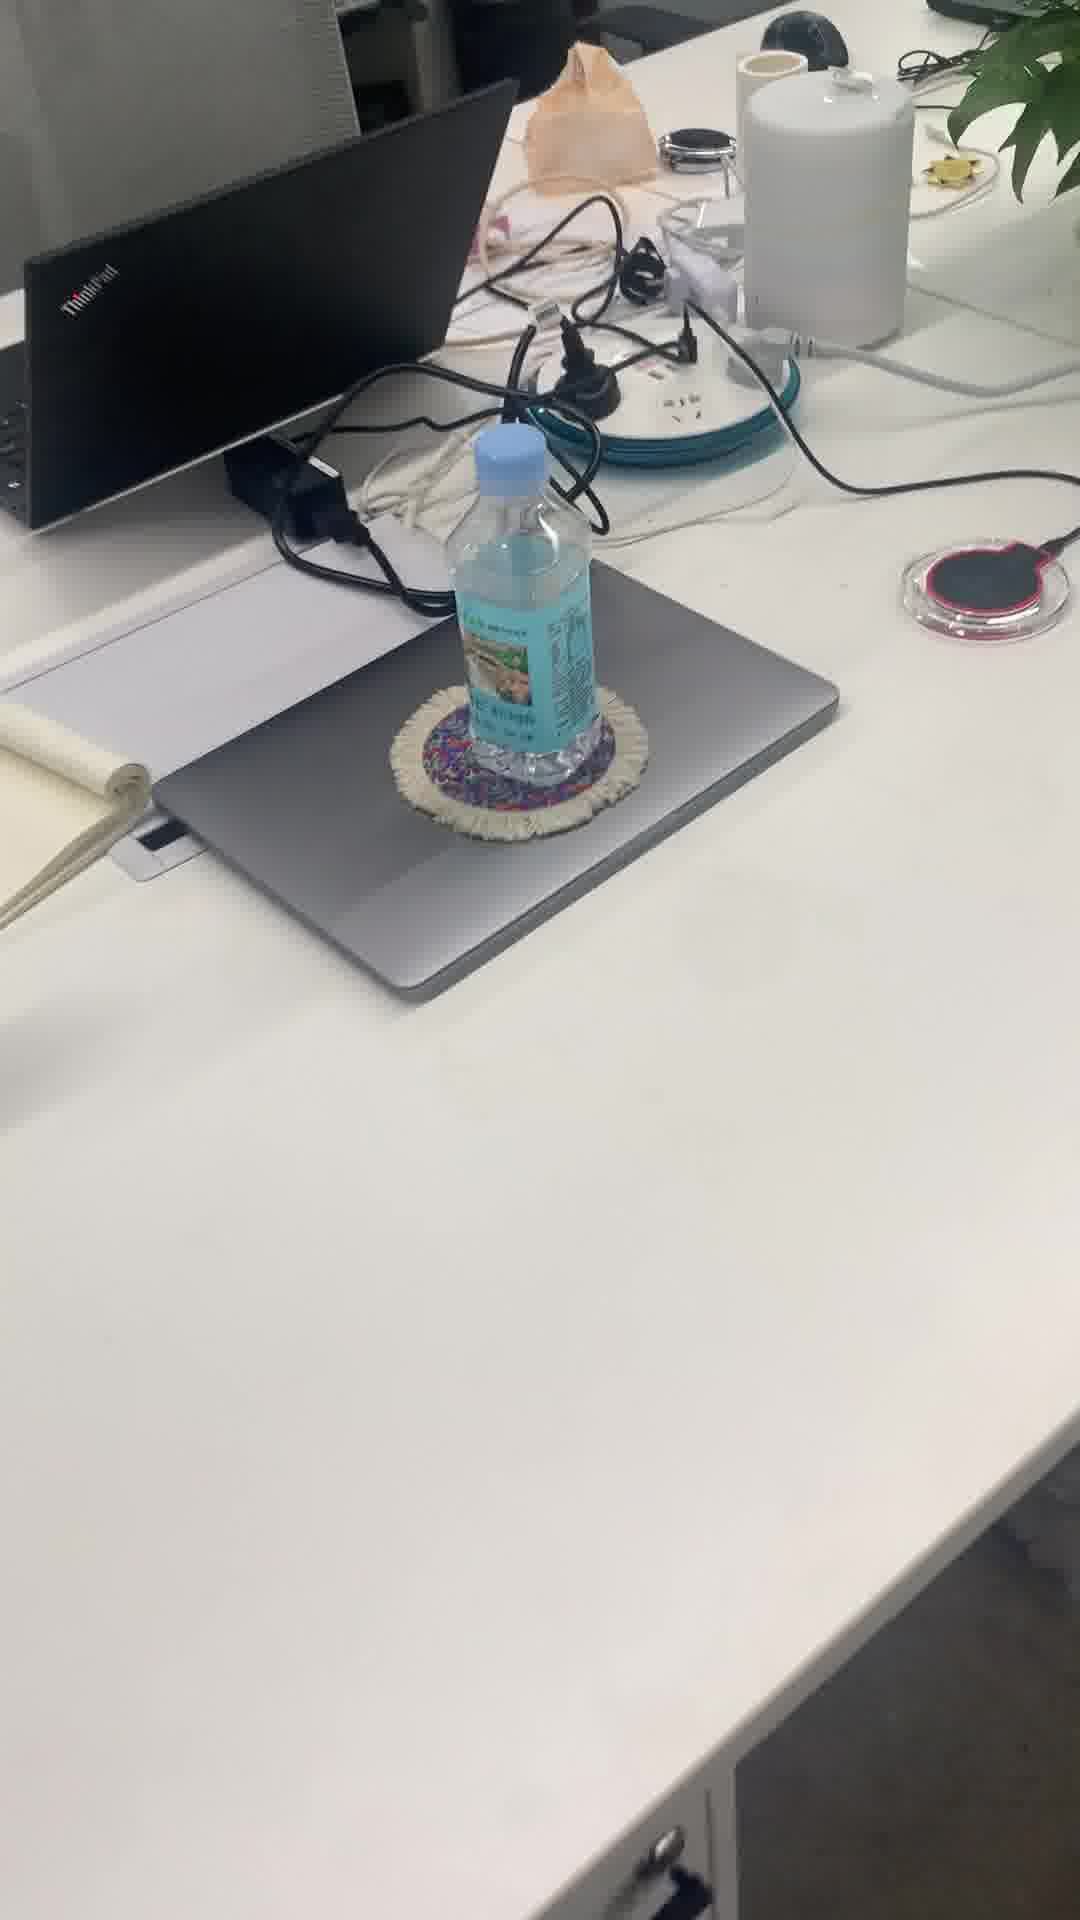水瓶: (438, 425, 611, 791)
